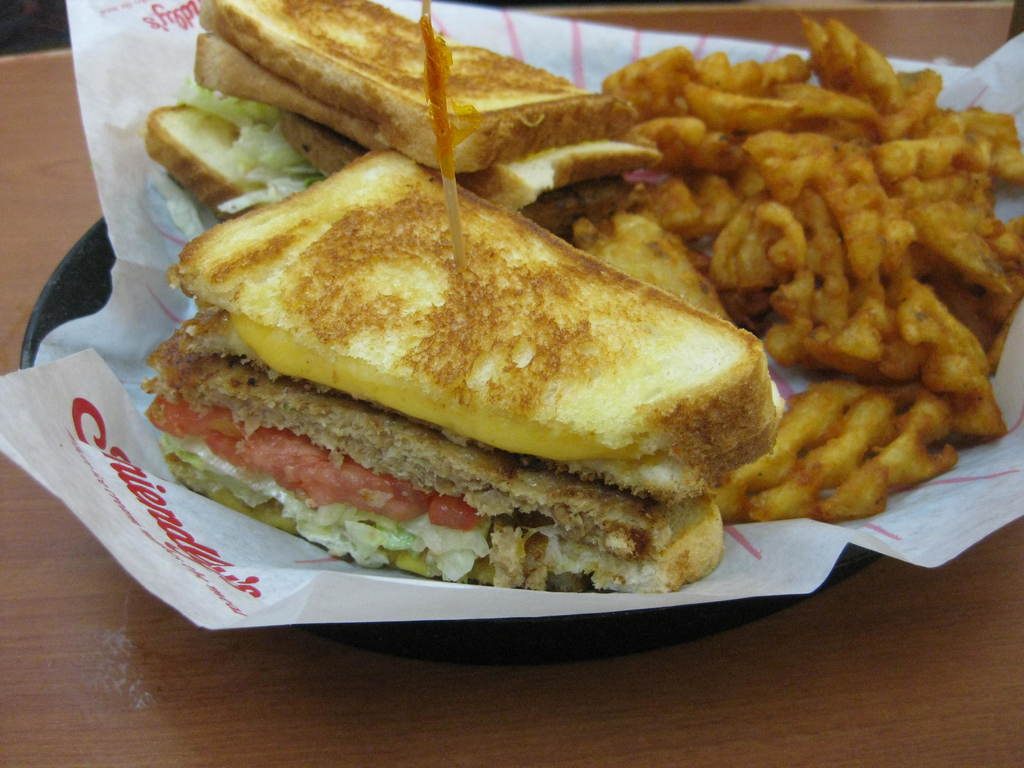French fries: (509, 40, 1024, 473)
